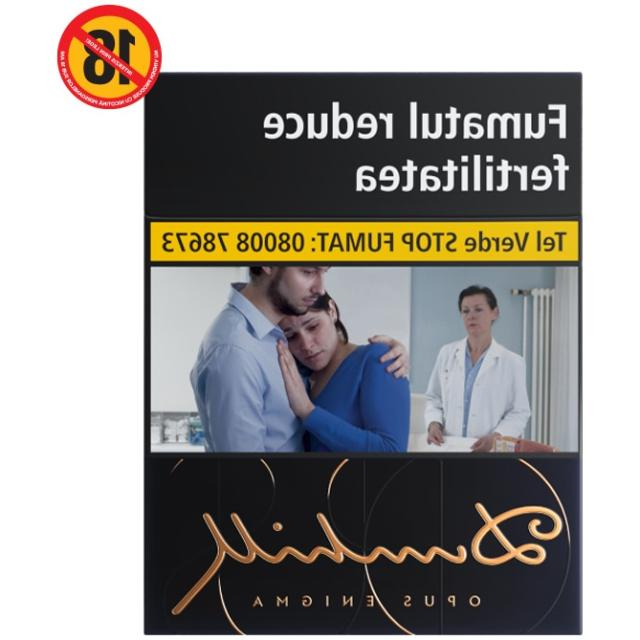dunhill: (142, 74, 585, 640)
